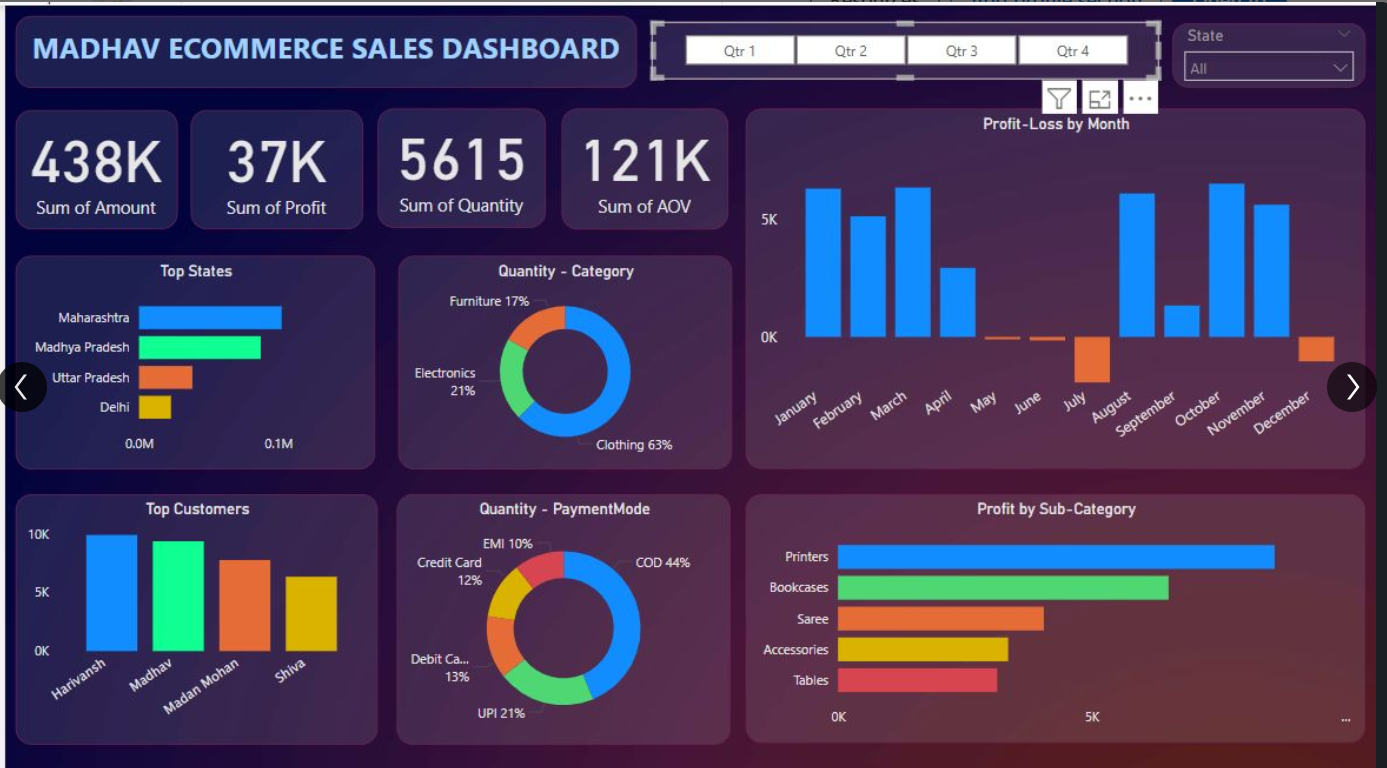

Layout of this report page (visuals, bound fields, positions):
{"tool":"powerbi","page":{"name":"Page 1","canvas":[1280,720],"ordinal":0},"visuals":[{"type":"card","fields":{"Values":["Sum(Details.Amount)"]},"box":[9.6,97.4,150.9,111.1],"z":0},{"type":"textbox","box":[9.6,9.6,579.1,67.2],"z":1000},{"type":"columnChart","title":"Profit-Loss by Month","fields":{"Category":["Orders.Order Date.Variation.Date Hierarchy.Month"],"Y":["Sum(Details.Profit)"]},"box":[690.2,96.1,577.7,336.2],"z":2000},{"type":"barChart","title":"Profit by Sub-Category","fields":{"Category":["Details.Sub-Category"],"Y":["Sum(Details.Profit)"]},"box":[690.2,455.6,577.7,231.9],"z":3000},{"type":"donutChart","title":"Quantity - Category","fields":{"Category":["Details.Category"],"Y":["Sum(Details.Quantity)"]},"box":[366.4,233.3,311.5,199],"z":4000},{"type":"donutChart","title":"Quantity - PaymentMode","fields":{"Y":["Sum(Details.Quantity)"],"Category":["Details.PaymentMode"]},"box":[365,455.6,311.5,233.3],"z":5000},{"type":"card","fields":{"Values":["Sum(Details.Quantity)"]},"box":[347.2,96.1,156.4,111.1],"z":6000},{"type":"card","fields":{"Values":["Sum(Details.Profit)"]},"box":[172.9,97.4,160.5,111.1],"z":7000},{"type":"card","fields":{"Values":["Sum(Details.AOV)"]},"box":[518.7,96.1,155.1,112.5],"z":8000},{"type":"barChart","title":"Top States","fields":{"Y":["Sum(Details.Amount)"],"Category":["Orders.State"]},"box":[9.6,233.3,334.8,199],"z":9000},{"type":"columnChart","title":"Top Customers","fields":{"Category":["Orders.CustomerName"],"Y":["Sum(Details.Amount)"]},"box":[9.6,455.6,337.6,233.3],"z":10000},{"type":"slicer","fields":{"Values":["Orders.Order Date.Variation.Date Hierarchy.Quarter"]},"box":[602.4,15.1,473.4,53.5],"z":11000},{"type":"slicer","fields":{"Values":["Orders.State"]},"box":[1088.2,16.5,179.8,60.4],"z":12000}]}

Visuals, with their boxes in screenshot pixels (x1, y1, x2, y2), scaled from the page's 1280x720 canvas onto the 1387x768 screenshot:
card - Sum(Details.Amount): bbox=(10, 104, 174, 222)
textbox: bbox=(10, 10, 638, 82)
"Profit-Loss by Month" columnChart: bbox=(748, 103, 1374, 461)
"Profit by Sub-Category" barChart: bbox=(748, 486, 1374, 733)
"Quantity - Category" donutChart: bbox=(397, 249, 735, 461)
"Quantity - PaymentMode" donutChart: bbox=(396, 486, 733, 735)
card - Sum(Details.Quantity): bbox=(376, 103, 546, 221)
card - Sum(Details.Profit): bbox=(187, 104, 361, 222)
card - Sum(Details.AOV): bbox=(562, 103, 730, 223)
"Top States" barChart: bbox=(10, 249, 373, 461)
"Top Customers" columnChart: bbox=(10, 486, 376, 735)
slicer - Orders.Order Date.Variation.Date Hierarchy.Quarter: bbox=(653, 16, 1166, 73)
slicer - Orders.State: bbox=(1179, 18, 1374, 82)
